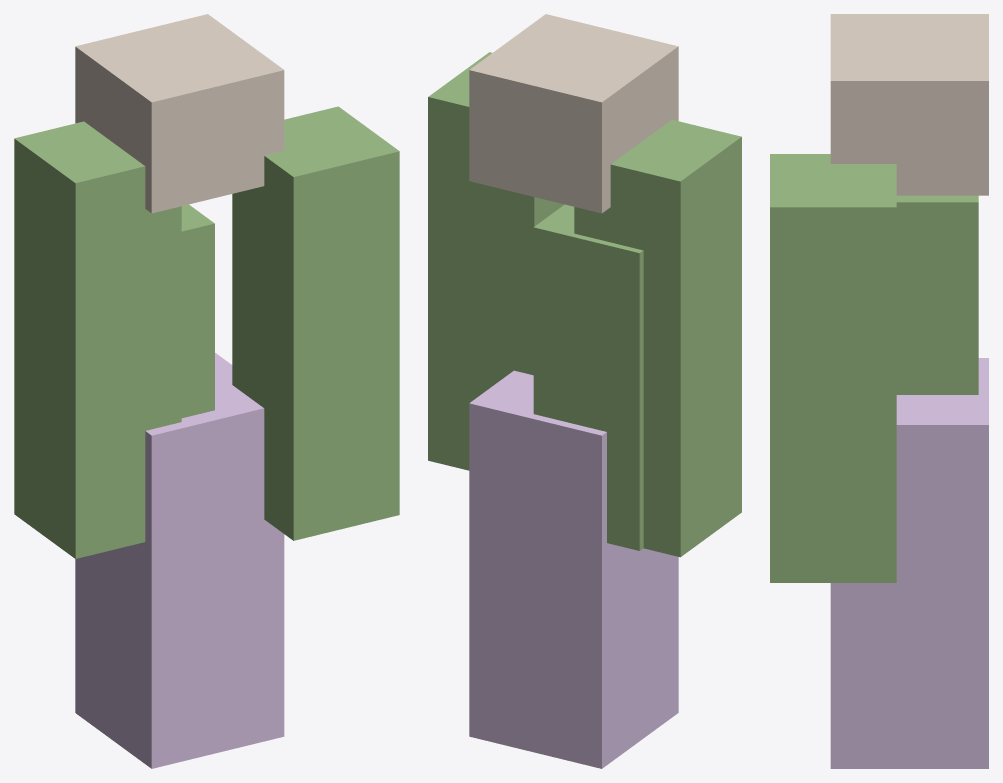
Rendered from Item_Herb_AMF_Ironfang_Bundle2.glb.
The picture shows the model from 3 angles, left to right: view 1: azimuth 30°, elevation 25°; view 2: azimuth 150°, elevation 25°; view 3: azimuth 270°, elevation 25°; orthographic projection. The views are drawn at different scales.
Parts seen in each view (by area): view 1: Item_Herb_AMF_Ironfang_Bundle2; view 2: Item_Herb_AMF_Ironfang_Bundle2; view 3: Item_Herb_AMF_Ironfang_Bundle2.
Part boxes in pixels (x1=…): Item_Herb_AMF_Ironfang_Bundle2: x1=14, y1=14, x2=399, y2=768; Item_Herb_AMF_Ironfang_Bundle2: x1=428, y1=14, x2=741, y2=768; Item_Herb_AMF_Ironfang_Bundle2: x1=770, y1=14, x2=988, y2=768.
Bounding box in the file's own units: 0.1086 × 0.24 × 0.0692.
